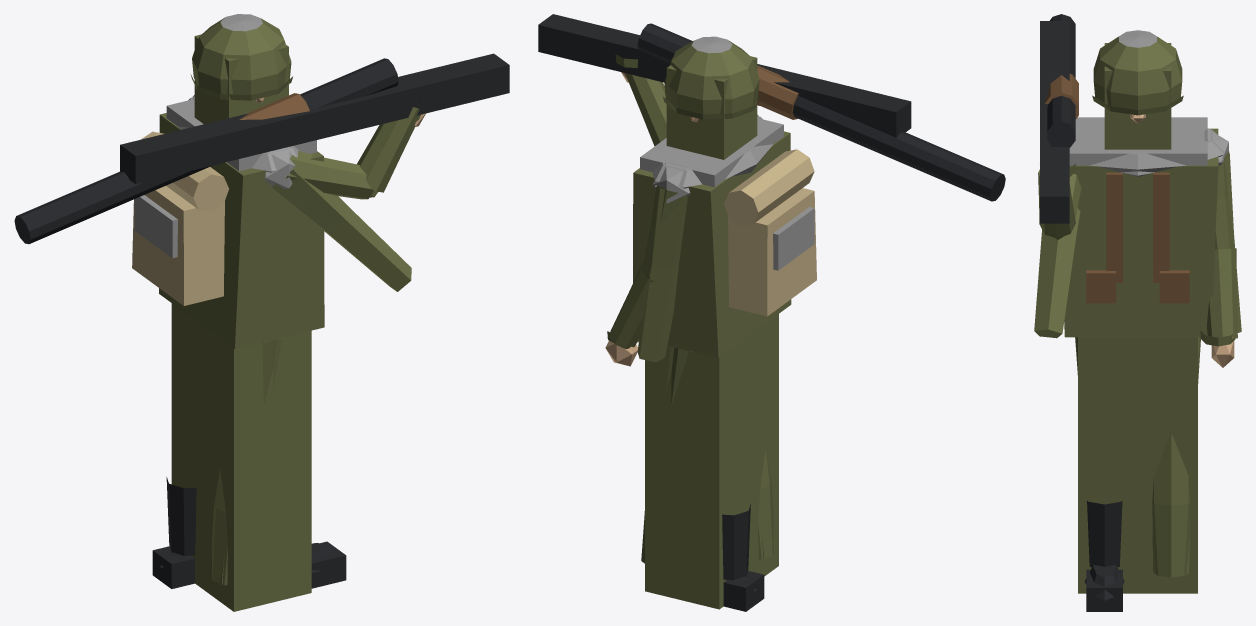
The model's file is meridian_rocket_trooper.glb.
3 renders of one model, left to right at view 1: azimuth 30°, elevation 25°; view 2: azimuth 150°, elevation 25°; view 3: azimuth 270°, elevation 25°, orthographic. The views are drawn at different scales.
Parts seen in each view (by area): view 1: leg_l (×3), arm_r (×3), torso (×2), head (×2), leg_r (×2); view 2: leg_l (×3), torso (×3), arm_r (×2), head (×2), arm_l (×2), leg_r; view 3: torso (×3), leg_l (×2), arm_r (×3), head (×2), arm_l (×2), leg_r (×2).
Boxes of the visible parts, <box> form: leg_l (×3): <box>152,303,311,611</box>; arm_r (×3): <box>14,53,509,291</box>; torso (×2): <box>132,97,324,349</box>; head (×2): <box>190,14,292,124</box>; leg_r (×2): <box>210,338,346,588</box>; leg_l (×3): <box>641,314,778,611</box>; torso (×3): <box>633,116,816,357</box>; arm_r (×2): <box>538,14,1005,201</box>; head (×2): <box>662,36,760,159</box>; arm_l (×2): <box>605,162,690,366</box>; leg_r: <box>758,448,774,559</box>; torso (×3): <box>1064,117,1224,337</box>; leg_l (×2): <box>1078,337,1200,593</box>; arm_r (×3): <box>1034,14,1081,338</box>; head (×2): <box>1092,30,1183,149</box>; arm_l (×2): <box>1200,129,1241,367</box>; leg_r (×2): <box>1075,337,1124,611</box>.
Bounding box in the file's own units: 1.6 × 1.78 × 0.6243.
